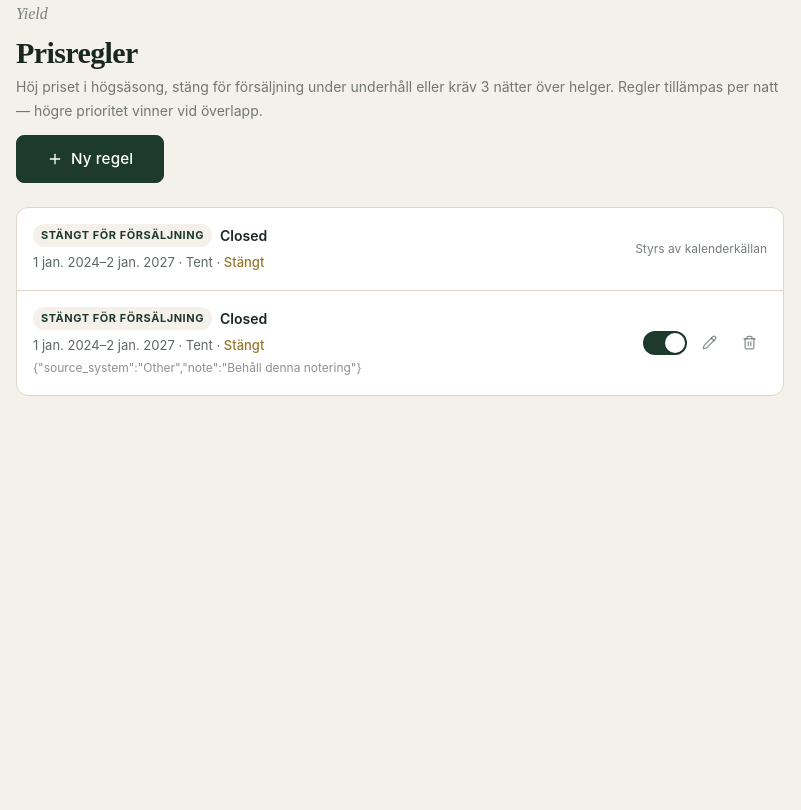
Test: preserves ordinary or unrecognized notes in the list, editor and save: {"source_system":"Other","note":"Behåll denna notering"}
Later steps or results of the test are not shown.
Expected: the text "{\"source_system\":\"Other\",\"note\":\"Behåll denna notering\"}" is shown, x1=33 y1=360 x2=362 y2=375
What coordinates should you click on to do the following:
click the button titled "Redigera"
I would click on:
 (709, 343)
Its box is x1=691 y1=325 x2=727 y2=361.
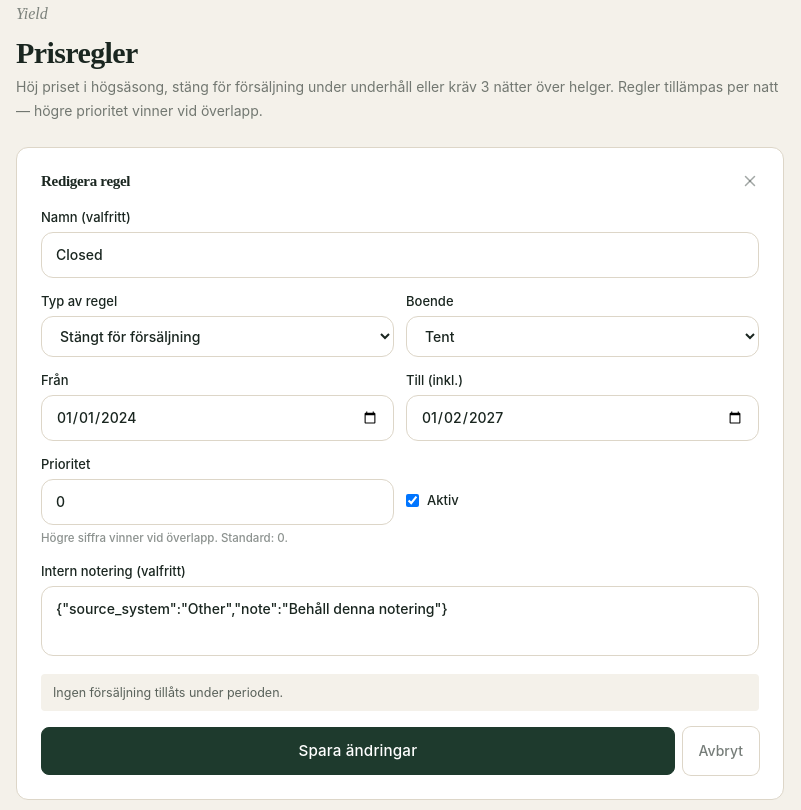
Result: the text box labelled "Intern notering (valfritt)" holds "{\"source_system\":\"Other\",\"note\":\"Behåll denna notering\"}" at x1=41 y1=586 x2=759 y2=656
